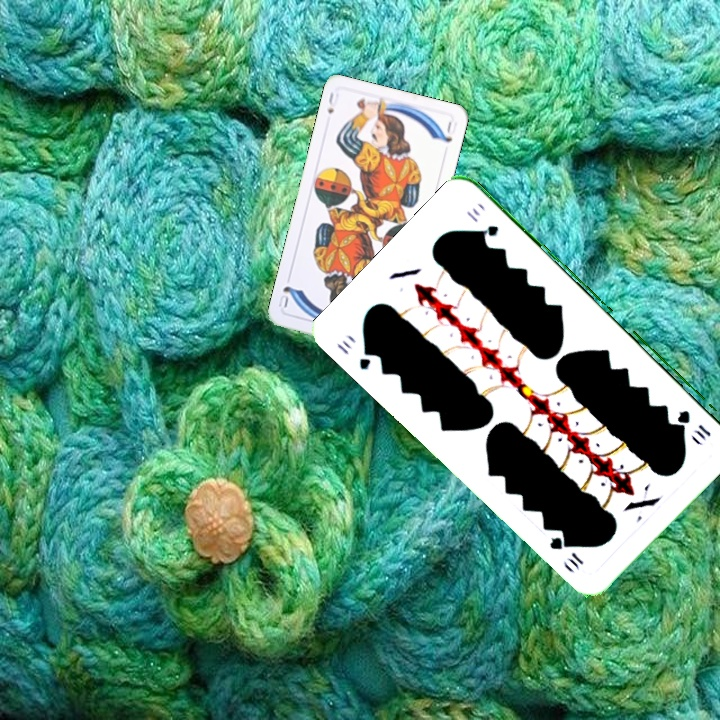G10: (332, 336, 379, 373), (674, 405, 714, 442)
SU: (323, 88, 342, 116)
